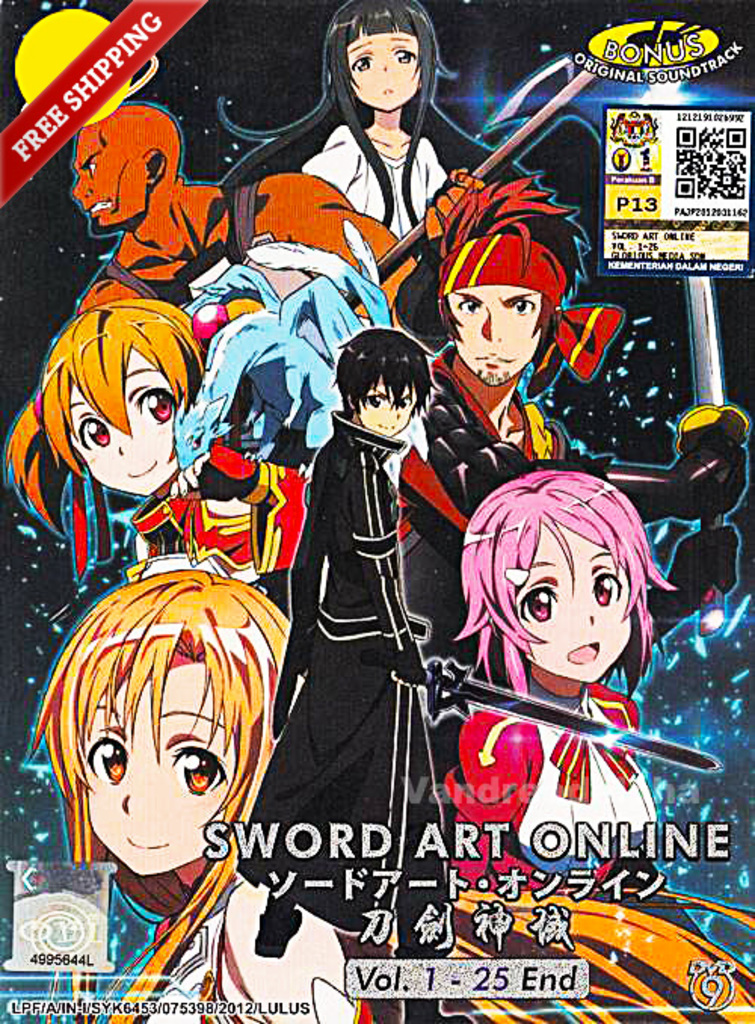Person: (0, 0, 754, 1023)
